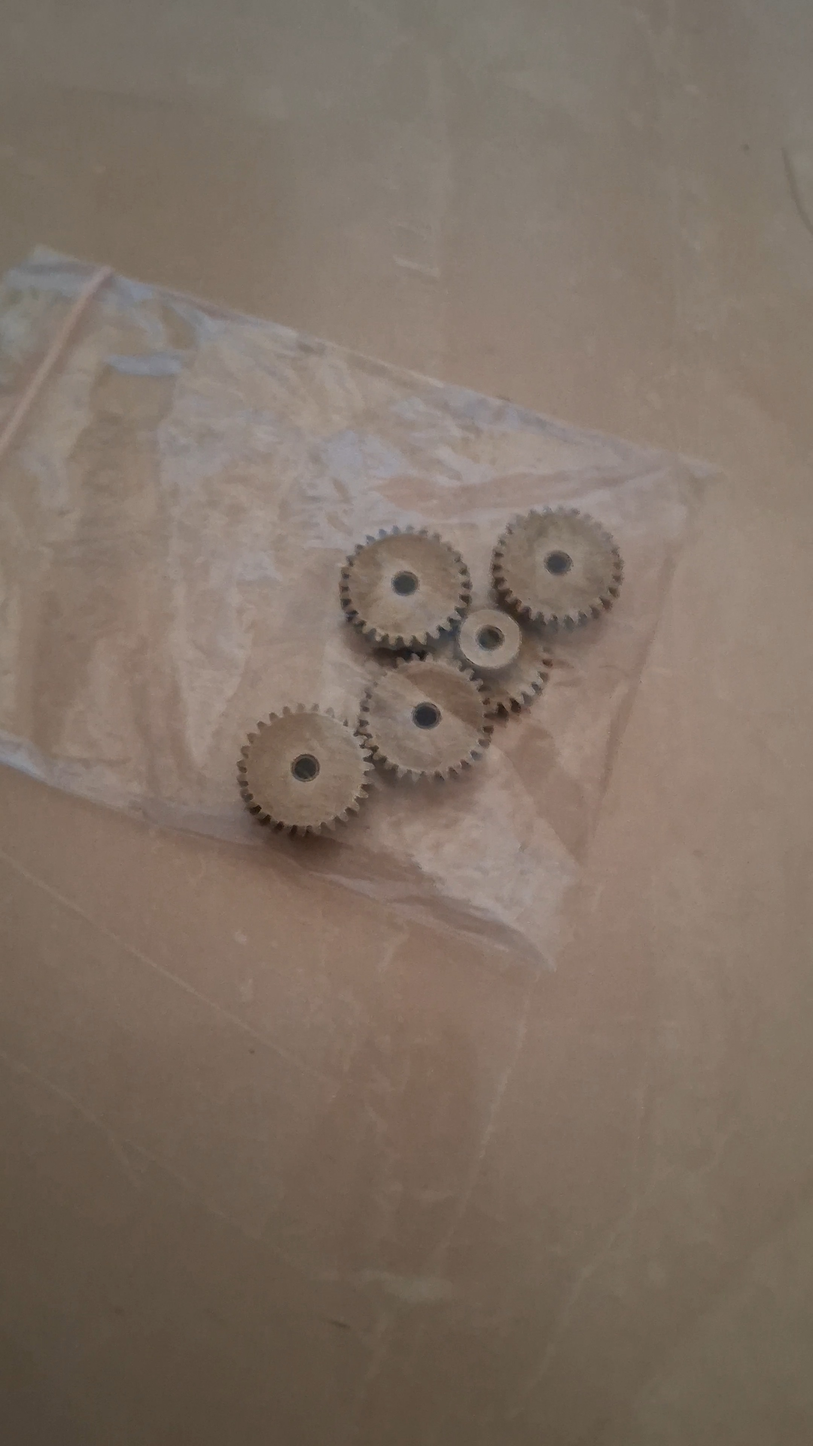spur gear: (238, 705, 371, 834), (359, 655, 492, 779), (340, 528, 470, 650), (492, 508, 621, 626), (456, 607, 551, 715)
